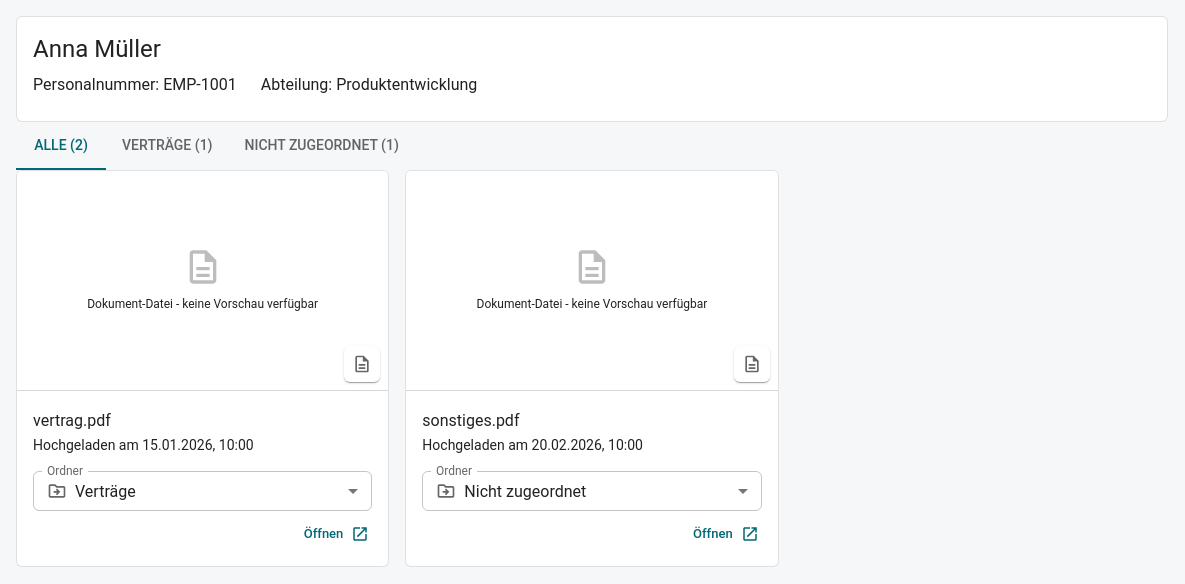
EmployeeDetailPage › groups documents into folders and filters the list on tab selection
Expected: the heading "vertrag.pdf" is shown, [33,411,111,430]
Expected: the heading "sonstiges.pdf" is shown, [422,411,519,430]
Click the tab "Verträge (1)": (167, 146) [106,122,228,170]
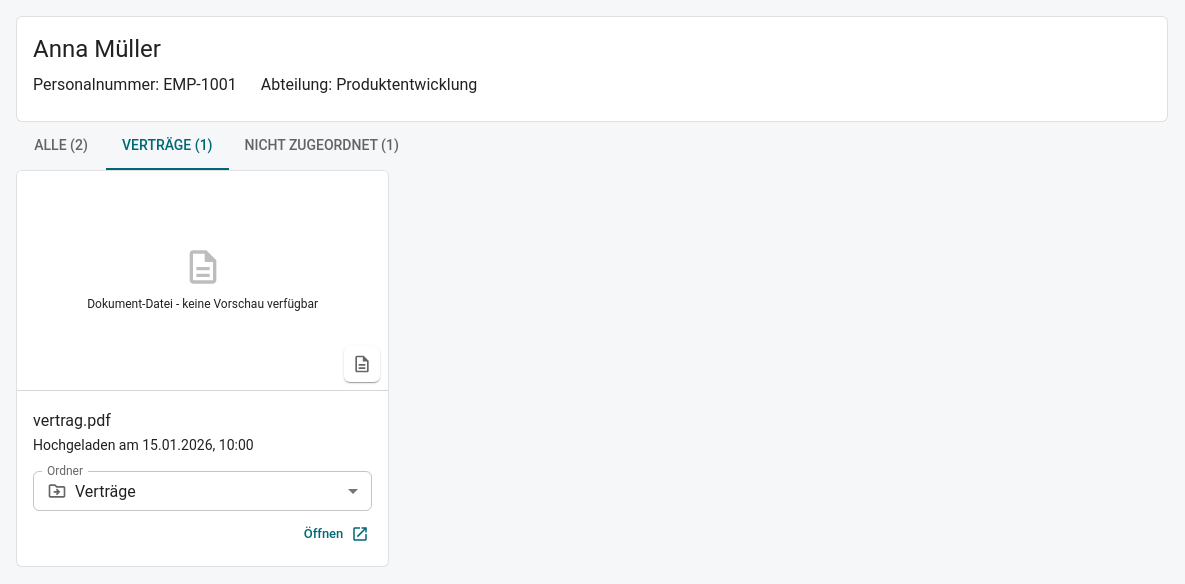
Expected: the heading "vertrag.pdf" is shown, [33,411,111,430]
Expected: the heading "sonstiges.pdf" is gone
